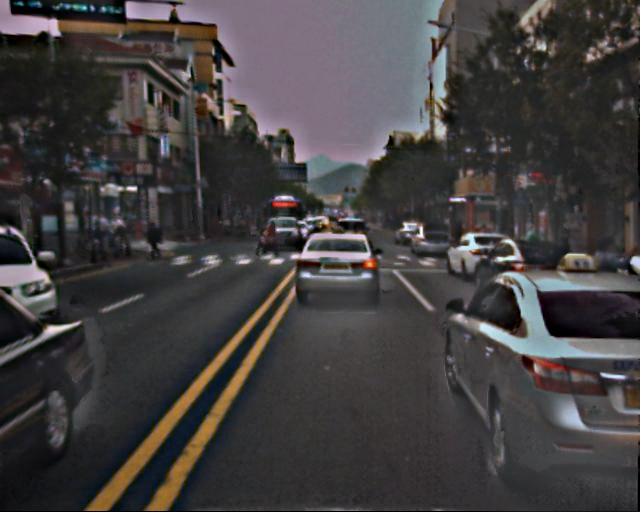person: (587, 234, 630, 340), (87, 212, 162, 261), (556, 220, 576, 269), (265, 221, 280, 258), (258, 231, 268, 256)
